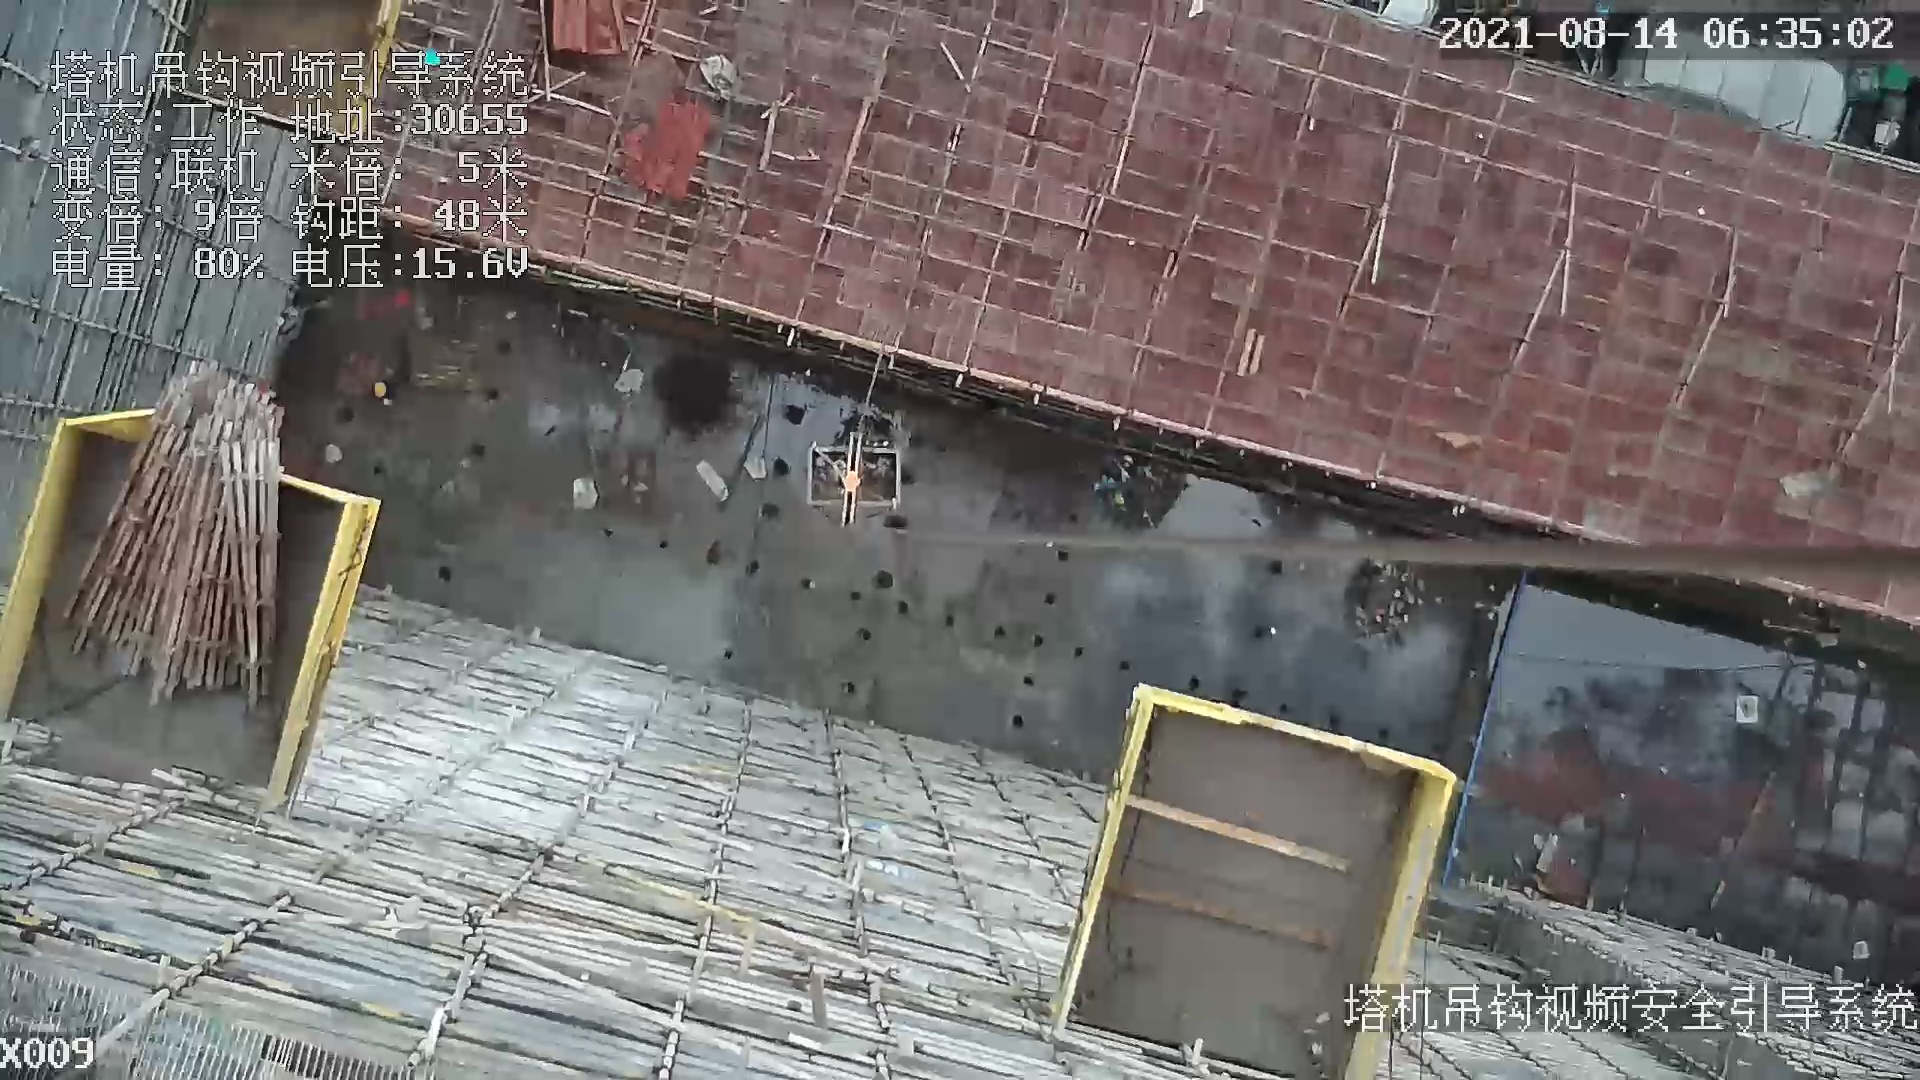hook: (829, 433, 860, 524)
hopper: (800, 446, 924, 530)
scaffold: (100, 364, 290, 713)
